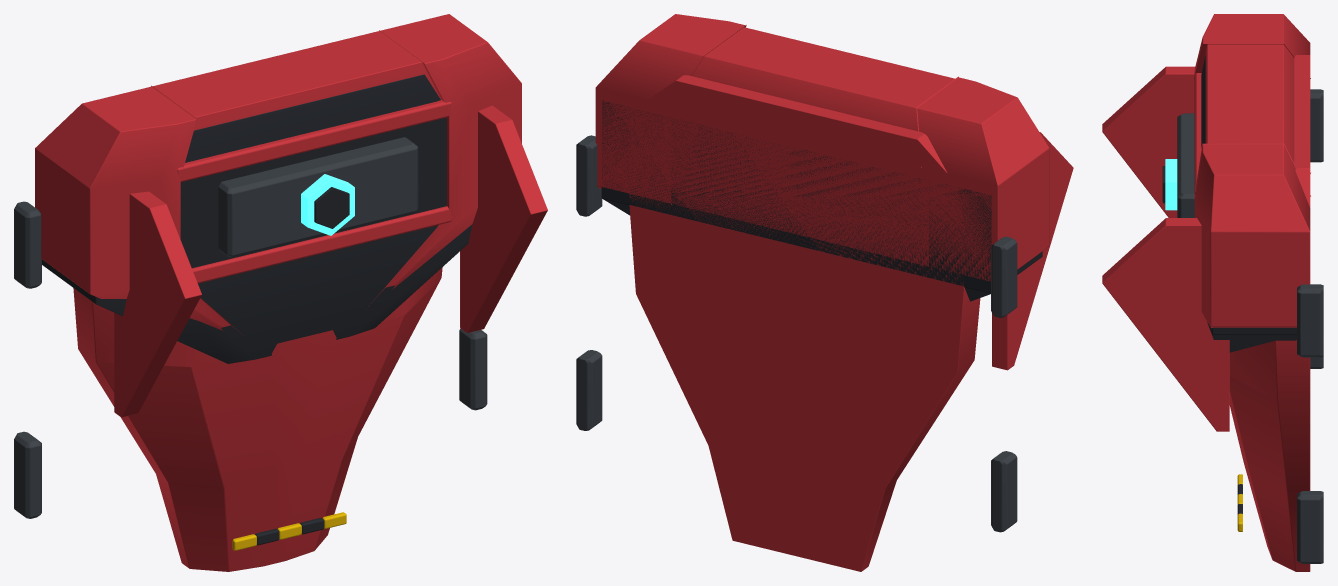
Rendered from BodyBack_Set10_Aegis.fbx.
3 views of the same model, side by side, from view 1: azimuth 30°, elevation 25°; view 2: azimuth 150°, elevation 25°; view 3: azimuth 270°, elevation 25° (orthographic). The views are drawn at different scales.
Parts seen in each view (by area): view 1: BodyBack_Set10_Aegis; view 2: BodyBack_Set10_Aegis; view 3: BodyBack_Set10_Aegis.
Boxes of the visible parts, x1=… form: BodyBack_Set10_Aegis: x1=14, y1=14, x2=547, y2=571; BodyBack_Set10_Aegis: x1=576, y1=14, x2=1073, y2=571; BodyBack_Set10_Aegis: x1=1102, y1=14, x2=1323, y2=571.
Bounding box in the file's own units: 1.07 × 1.1 × 0.4945.
